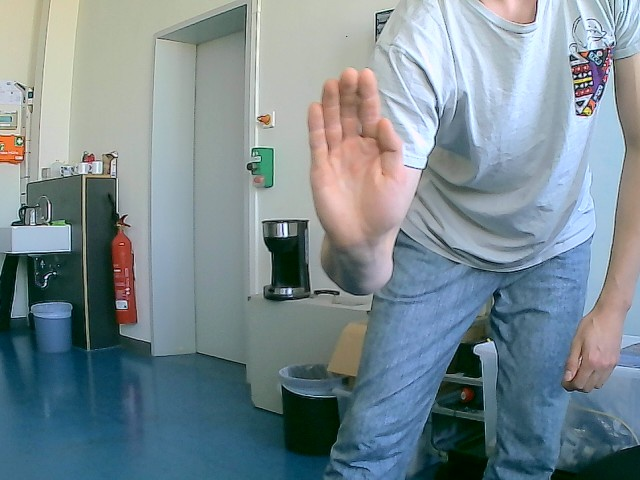no_gesture: (563, 302, 625, 391)
stop: (306, 66, 423, 251)
